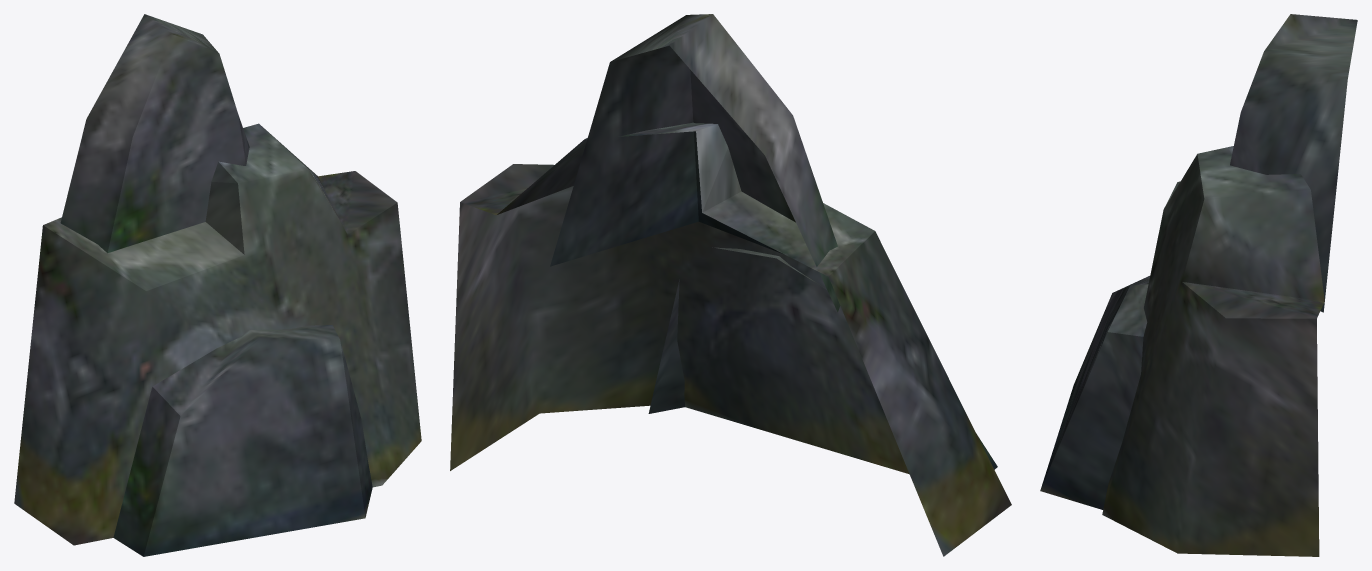
Rendered from yw_xingzilin_pinjieshi04.FBX.
3 views of the same model, side by side, from view 1: azimuth 30°, elevation 25°; view 2: azimuth 150°, elevation 25°; view 3: azimuth 270°, elevation 25° (orthographic). The views are drawn at different scales.
Visible parts, largest first — view 1: yw_xingzilin_pinjieshi04; view 2: yw_xingzilin_pinjieshi04; view 3: yw_xingzilin_pinjieshi04.
Part boxes in pixels (x1,y1,x2,y2): yw_xingzilin_pinjieshi04: (14,14,421,556); yw_xingzilin_pinjieshi04: (450,14,1011,556); yw_xingzilin_pinjieshi04: (1040,14,1357,556).
Size of the model in its own units: 129 by 136 by 89.53.
